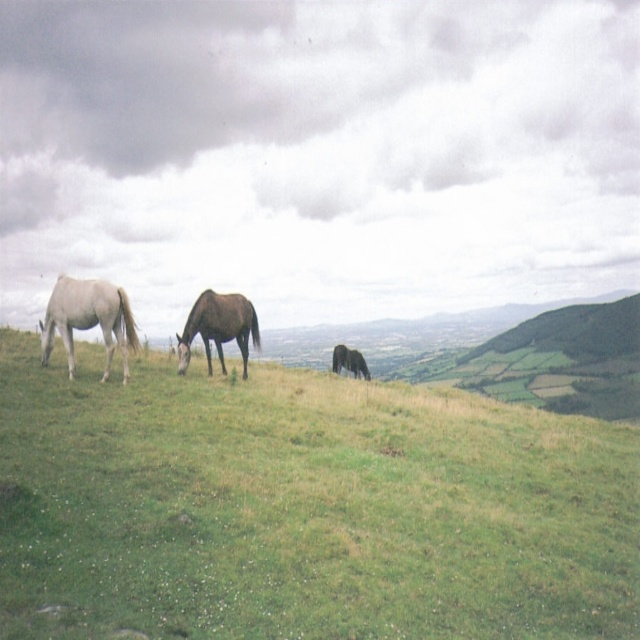Horse: (37, 271, 141, 389), (175, 282, 262, 375), (333, 343, 370, 382)
